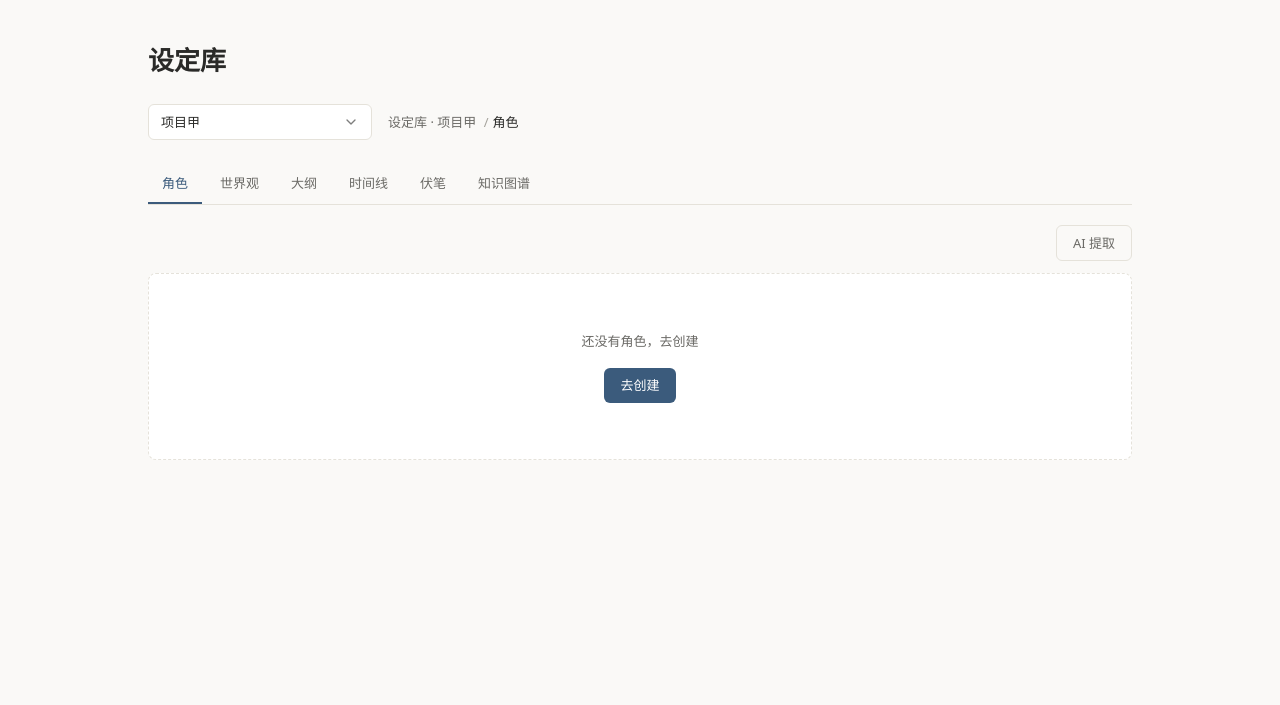
Test case: #1373-B 类别/实体筛选（决策②③④：左侧面板 + 折叠 + 记忆） › N12 实体多选：点实体 = 取消它（仅它变暗，其余保留）；再点恢复全量
Click the tab "知识图谱".
click(504, 184)  # box [464,164,544,204]
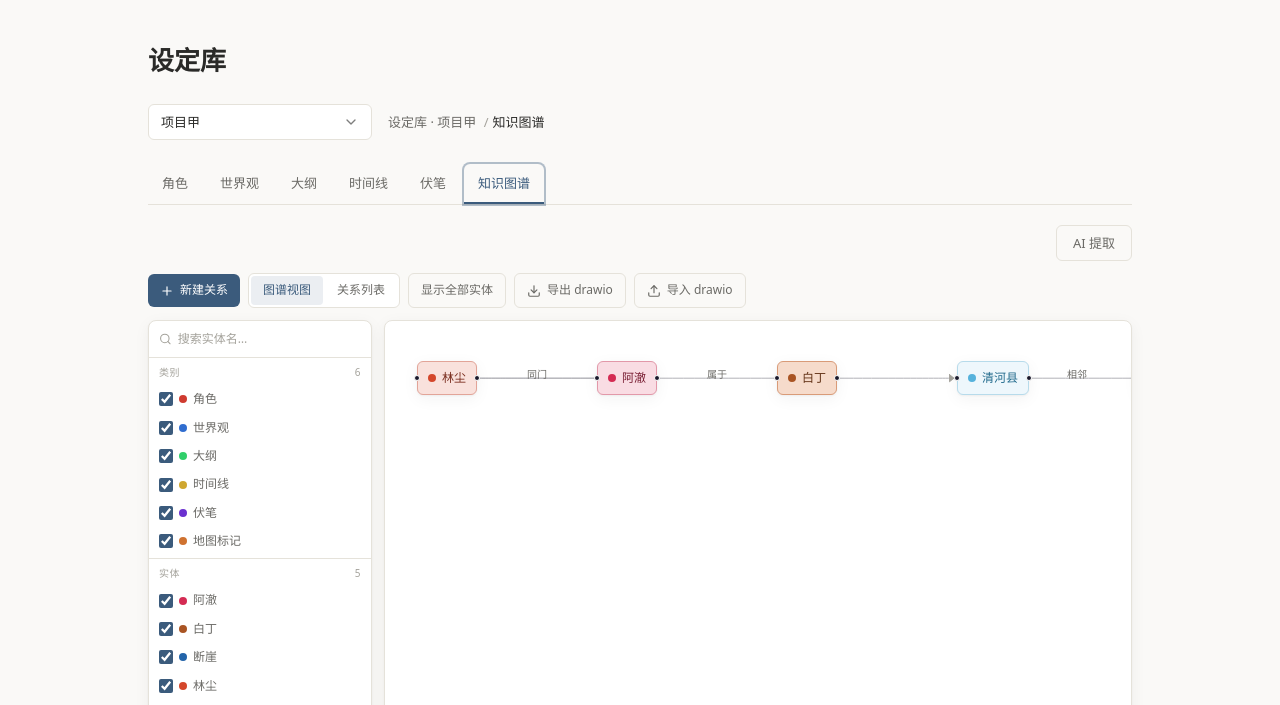
Check: the element with test id "library-kg-node-character-c1" is shown, box [417,361,477,395]
Click the label with test id "library-kg-filter-panel-entity-character-c1".
click(188, 685)  # box [159,677,217,694]
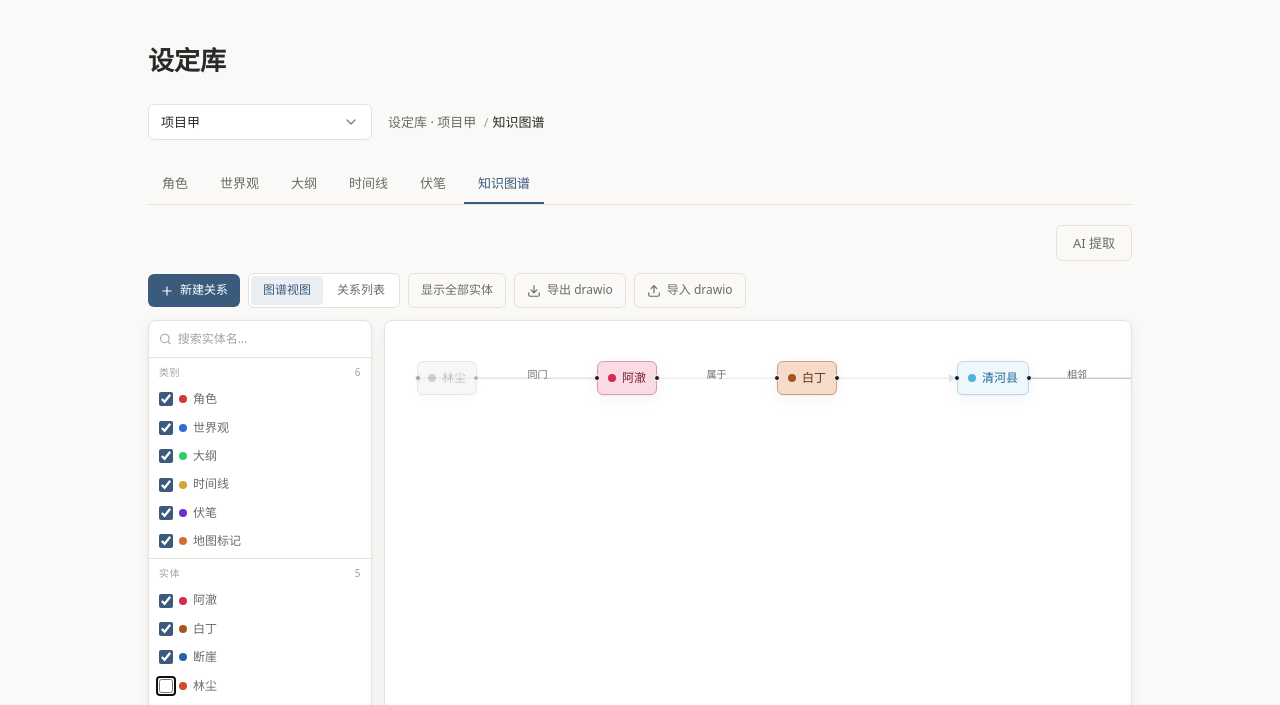
Check: the element with test id "library-kg-node-character-c1" is shown, box [417,361,477,395]
Check: the element with test id "library-kg-node-character-c2" is shown, box [597,361,657,395]
Check: the element with test id "library-kg-node-character-c3" is shown, box [777,361,837,395]
Click the label with test id "library-kg-filter-panel-entity-character-c1".
click(188, 685)  # box [159,677,217,694]
(page scrolled)
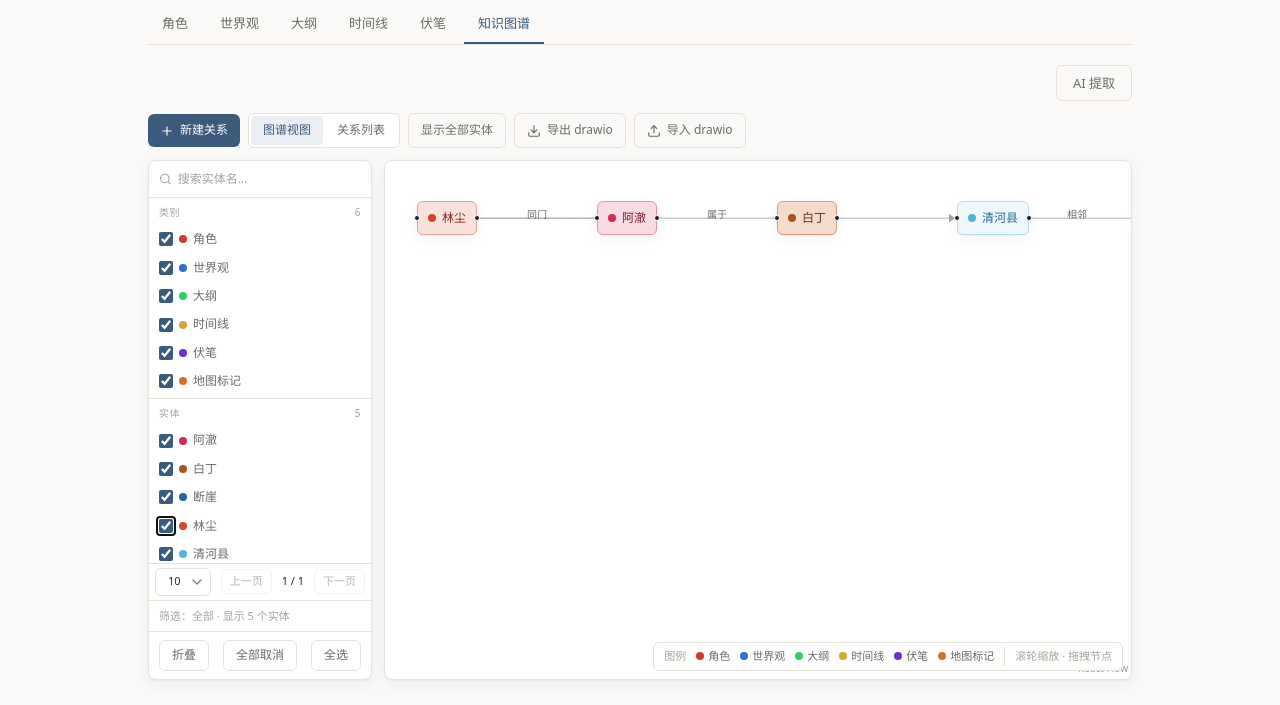
Check: the text with test id "library-kg-filter-summary" shows "显示 5 个实体", box [159,608,290,623]
